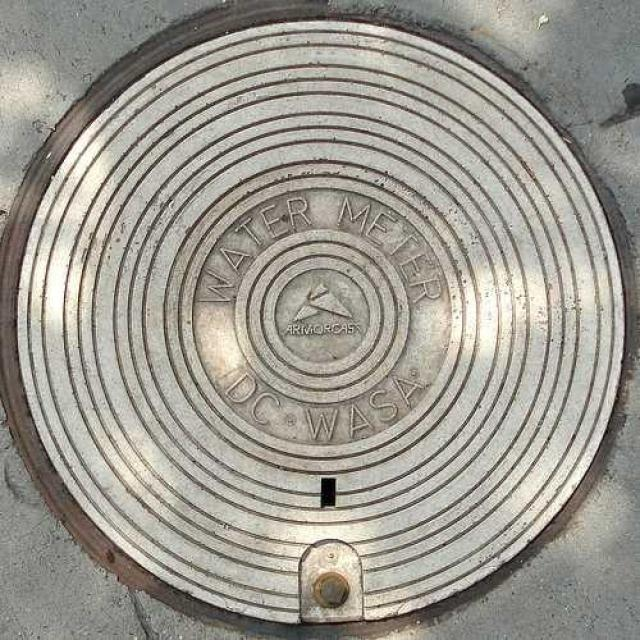manhole: (14, 14, 626, 626)
